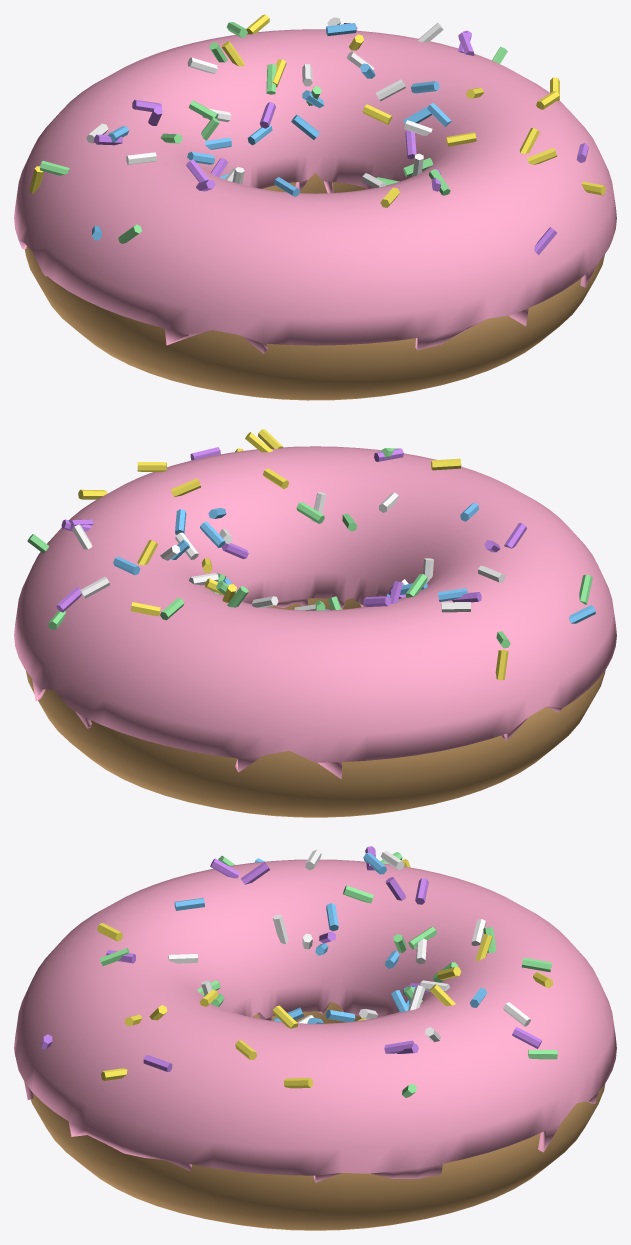
The model's file is donut.glb.
3 views of the same model, one above another, from view 1: azimuth 30°, elevation 25°; view 2: azimuth 150°, elevation 25°; view 3: azimuth 270°, elevation 25° (orthographic).
Visible parts, largest first — view 1: icing, dough, sprinkles; view 2: icing, dough, sprinkles; view 3: icing, dough, sprinkles.
Part boxes in pixels (left/top/right/bottom): icing: left=14, top=29, right=616, bottom=353; dough: left=24, top=173, right=604, bottom=400; sprinkles: left=29, top=14, right=605, bottom=254; icing: left=14, top=446, right=616, bottom=778; dough: left=25, top=598, right=605, bottom=817; sprinkles: left=27, top=429, right=595, bottom=680; icing: left=14, top=859, right=616, bottom=1182; dough: left=30, top=1001, right=605, bottom=1230; sprinkles: left=41, top=846, right=557, bottom=1097.
Size of the model in its own units: 15.51 by 5.87 by 15.51.
